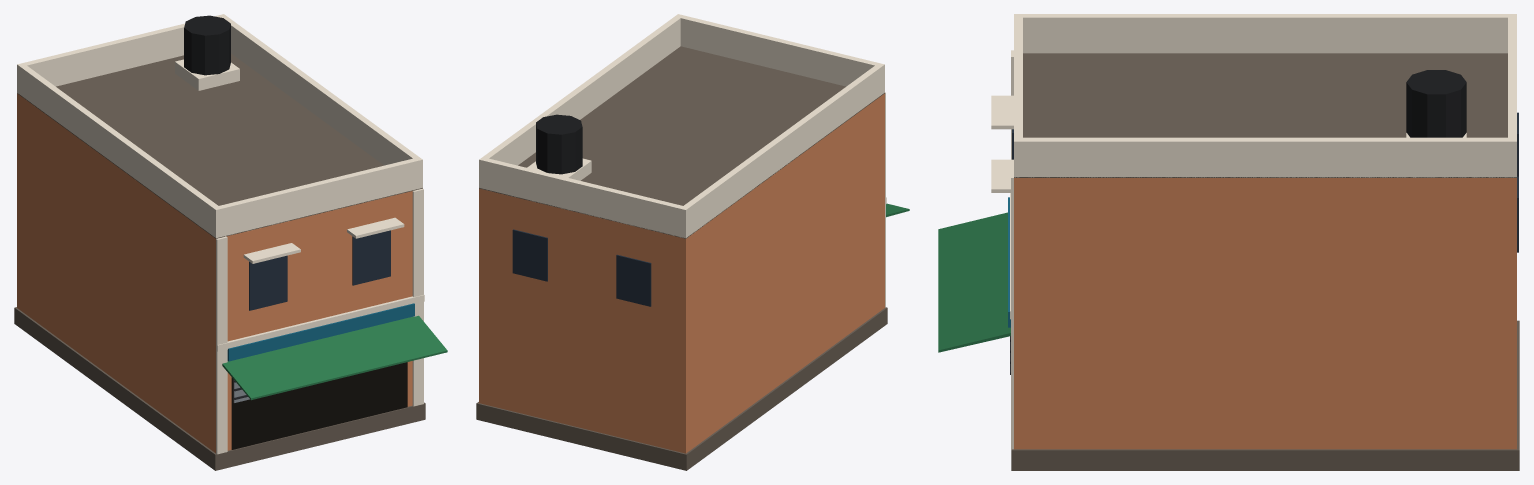
Rendered from bld_ot_shop_01.glb.
The picture shows the model from 3 angles, left to right: view 1: azimuth 30°, elevation 25°; view 2: azimuth 150°, elevation 25°; view 3: azimuth 270°, elevation 25°; orthographic projection. The views are drawn at different scales.
Parts seen in each view (by area): view 1: bld_ot_shop_01; view 2: bld_ot_shop_01; view 3: bld_ot_shop_01.
Boxes of the visible parts, left/top/right/bottom form: bld_ot_shop_01: left=14, top=14, right=447, bottom=470; bld_ot_shop_01: left=476, top=14, right=909, bottom=470; bld_ot_shop_01: left=938, top=14, right=1519, bottom=470.
Size of what is drawn, in the model's own units: 6.1 by 7.85 by 11.55.
